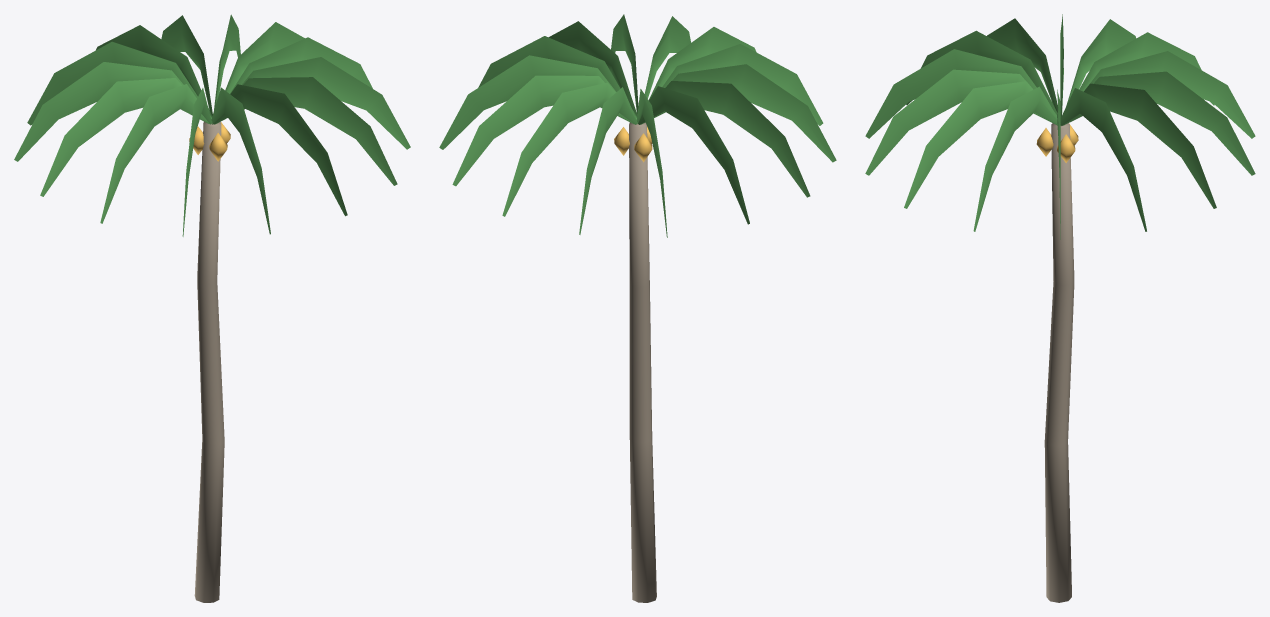
The model's file is tree_jungle_palm.glb.
The picture shows the model from 3 angles, left to right: view 1: azimuth 30°, elevation 25°; view 2: azimuth 150°, elevation 25°; view 3: azimuth 270°, elevation 25°; orthographic projection.
Visible parts, largest first — view 1: Flora_Jungle_Palm; view 2: Flora_Jungle_Palm; view 3: Flora_Jungle_Palm.
Part boxes in pixels (x1,y1,x2,y2): Flora_Jungle_Palm: [14, 14, 410, 602]; Flora_Jungle_Palm: [439, 14, 836, 602]; Flora_Jungle_Palm: [865, 14, 1255, 602].
Size of the model in its own units: 6.87 by 10.22 by 6.7.
